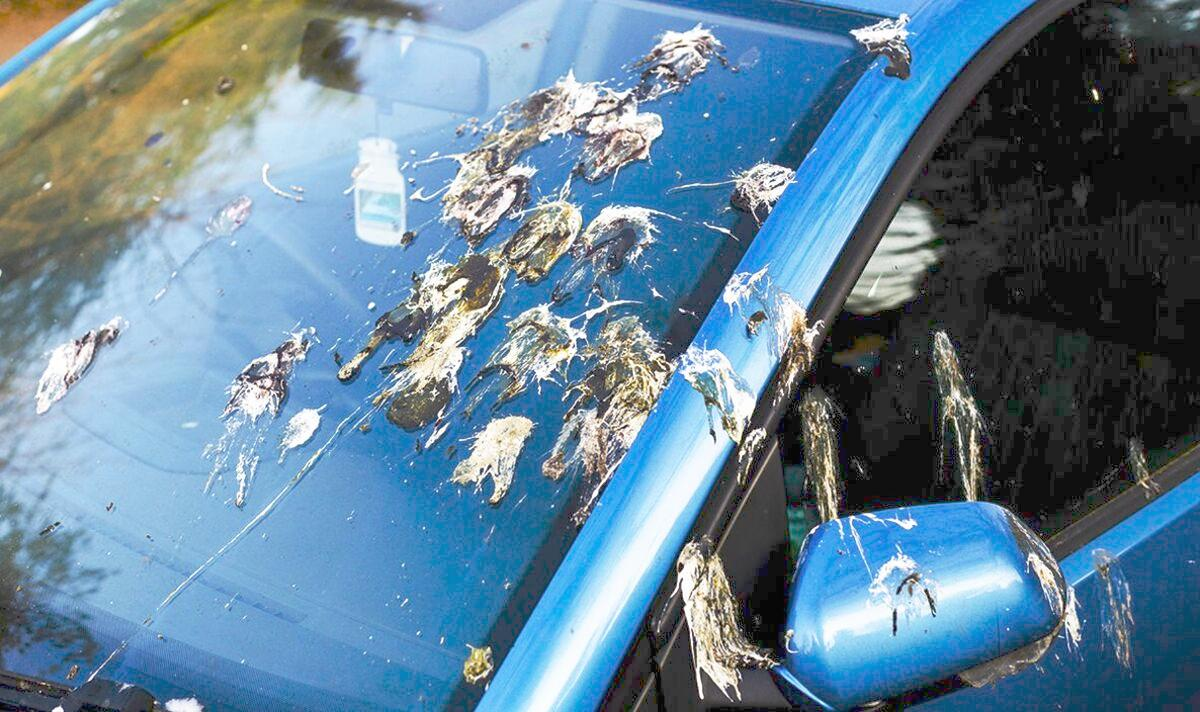Bird Poop: (339, 200, 580, 428), (442, 73, 662, 243), (542, 316, 674, 524), (208, 331, 311, 507), (475, 299, 639, 400), (677, 541, 773, 700), (722, 265, 822, 408), (679, 347, 763, 483), (151, 195, 252, 305), (1009, 513, 1081, 666), (933, 330, 984, 501), (35, 318, 124, 414), (628, 23, 729, 103), (450, 416, 536, 504), (674, 162, 795, 224), (572, 206, 679, 273), (869, 545, 937, 635), (1091, 549, 1134, 669), (800, 389, 838, 521), (850, 15, 910, 79), (281, 405, 325, 461), (1129, 441, 1160, 499), (463, 646, 493, 685), (165, 697, 204, 711), (991, 656, 1016, 674)
